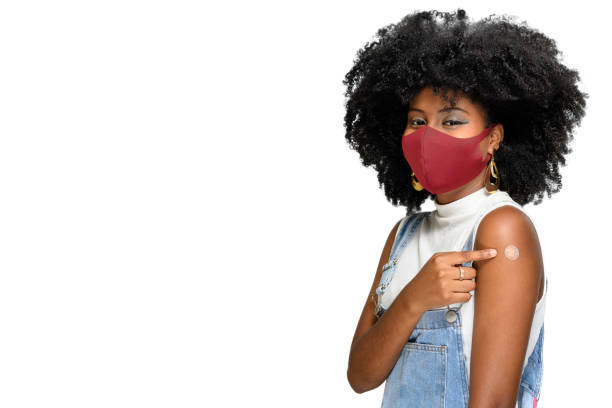with mask: (389, 66, 505, 206)
